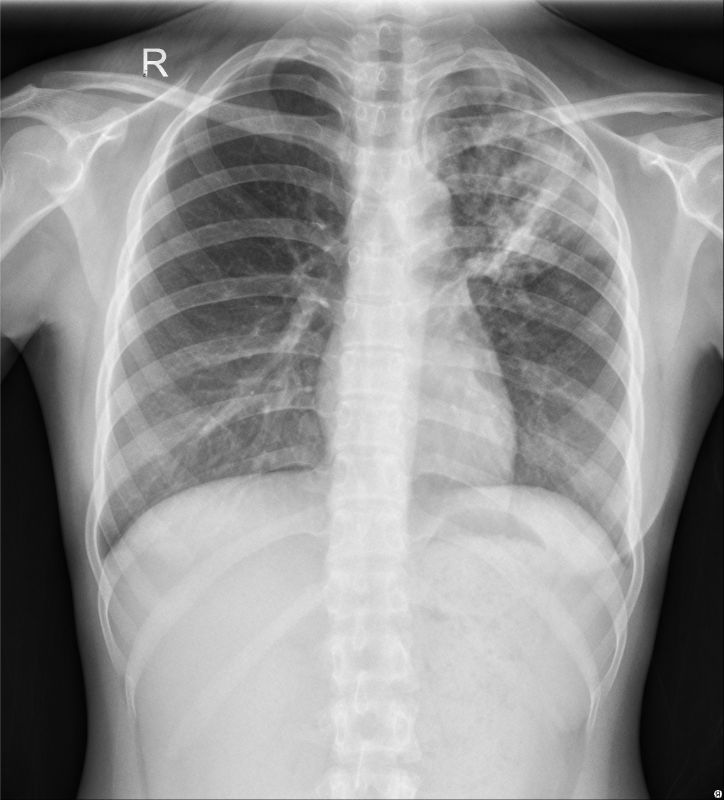Tuberculosis (TB): (483, 174, 604, 276), (467, 91, 561, 166)
